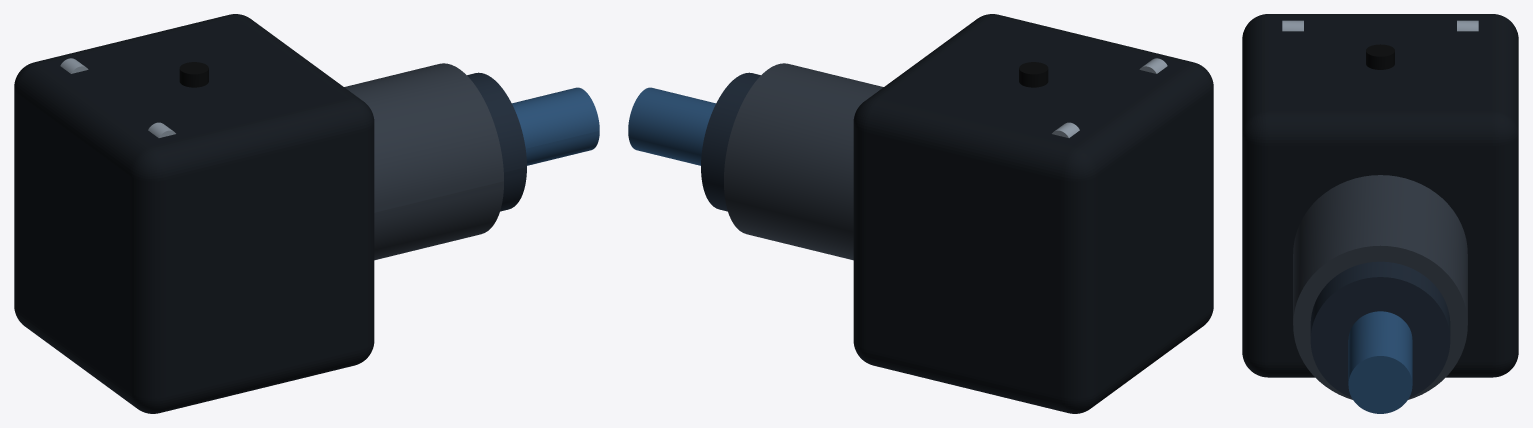
File: runcam-phoenix-2.glb
3 renders of one model, left to right at view 1: azimuth 30°, elevation 25°; view 2: azimuth 150°, elevation 25°; view 3: azimuth 270°, elevation 25°, orthographic.
Visible parts, largest first — view 1: RunCam_Phoenix_2_spec_model; view 2: RunCam_Phoenix_2_spec_model; view 3: RunCam_Phoenix_2_spec_model.
Part boxes in pixels (x1,y1,x2,y2): RunCam_Phoenix_2_spec_model: (14, 14, 599, 413); RunCam_Phoenix_2_spec_model: (628, 14, 1213, 413); RunCam_Phoenix_2_spec_model: (1242, 14, 1518, 413).
Size of the model in its own units: 0.0402 by 0.022 by 0.019.
